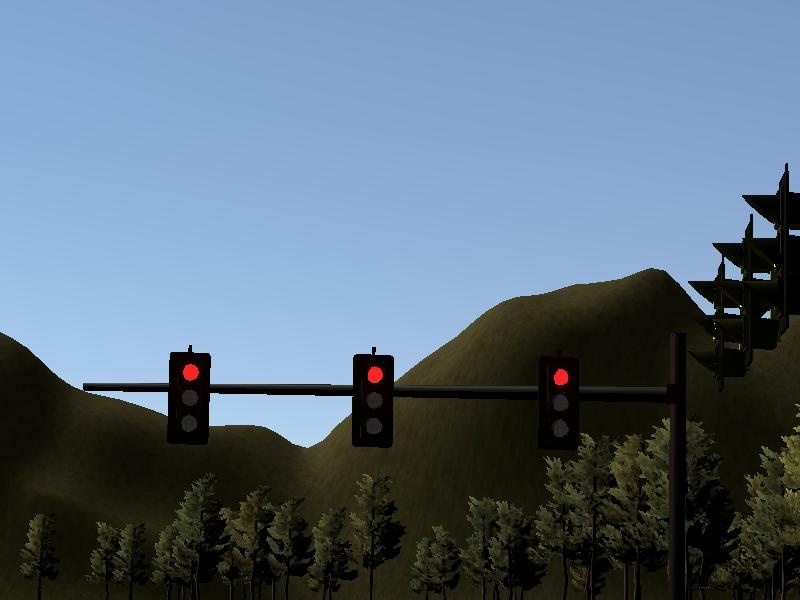traffic_light_red: (145, 346, 646, 449)
